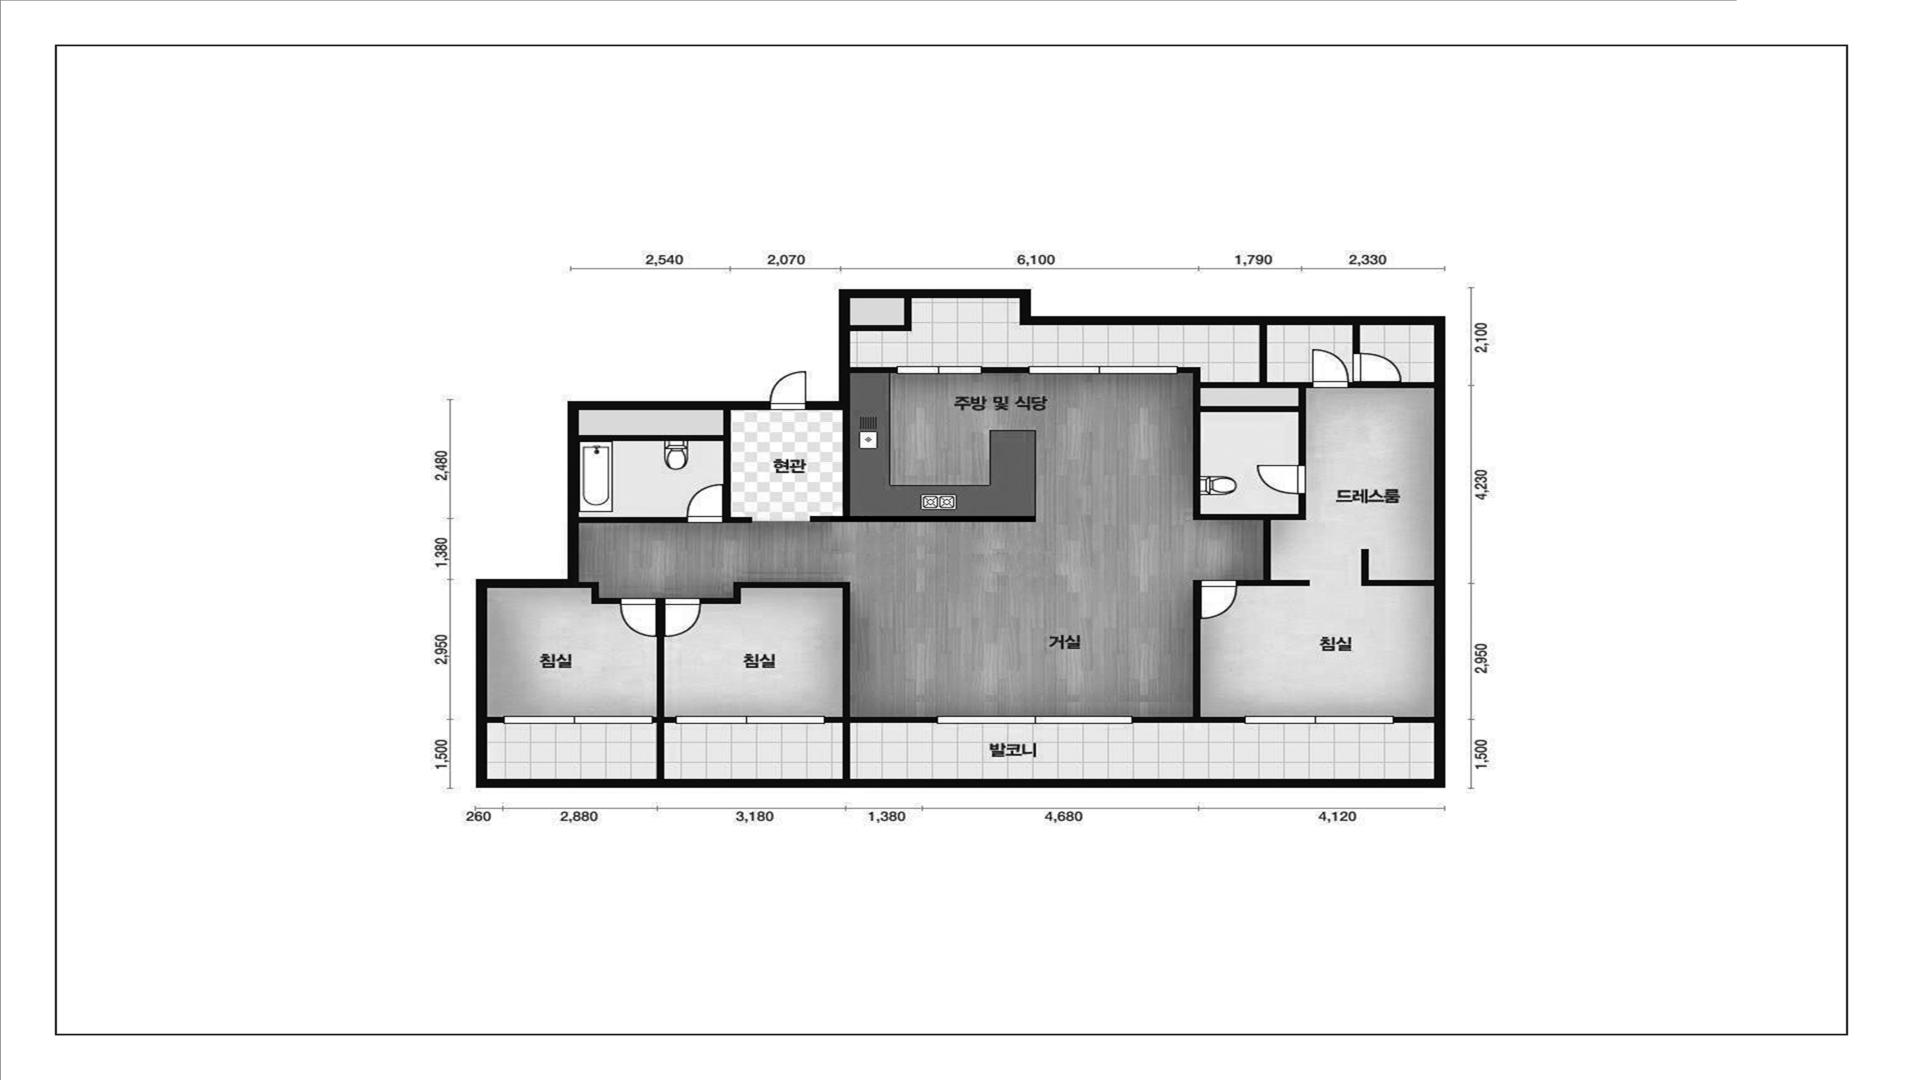door: (1353, 352, 1402, 382), (1257, 465, 1307, 495), (1312, 349, 1348, 389), (621, 597, 657, 637), (687, 484, 723, 524), (770, 371, 806, 410), (1201, 580, 1237, 618), (665, 599, 700, 637)
wall: (475, 289, 1445, 789), (700, 582, 938, 779), (1178, 326, 1312, 585), (810, 410, 1036, 522), (579, 410, 753, 524), (1133, 580, 1245, 723), (653, 599, 675, 779), (1361, 549, 1435, 585), (851, 298, 913, 331), (1200, 388, 1298, 406), (579, 582, 621, 604), (579, 517, 687, 524), (1348, 381, 1435, 389), (981, 367, 1029, 373), (851, 367, 897, 373), (1394, 717, 1435, 723), (1353, 326, 1361, 352), (487, 716, 502, 723)
window: (938, 716, 1133, 724), (1029, 365, 1178, 375), (502, 716, 653, 724), (675, 716, 825, 724), (1245, 716, 1394, 724), (897, 367, 981, 375)
